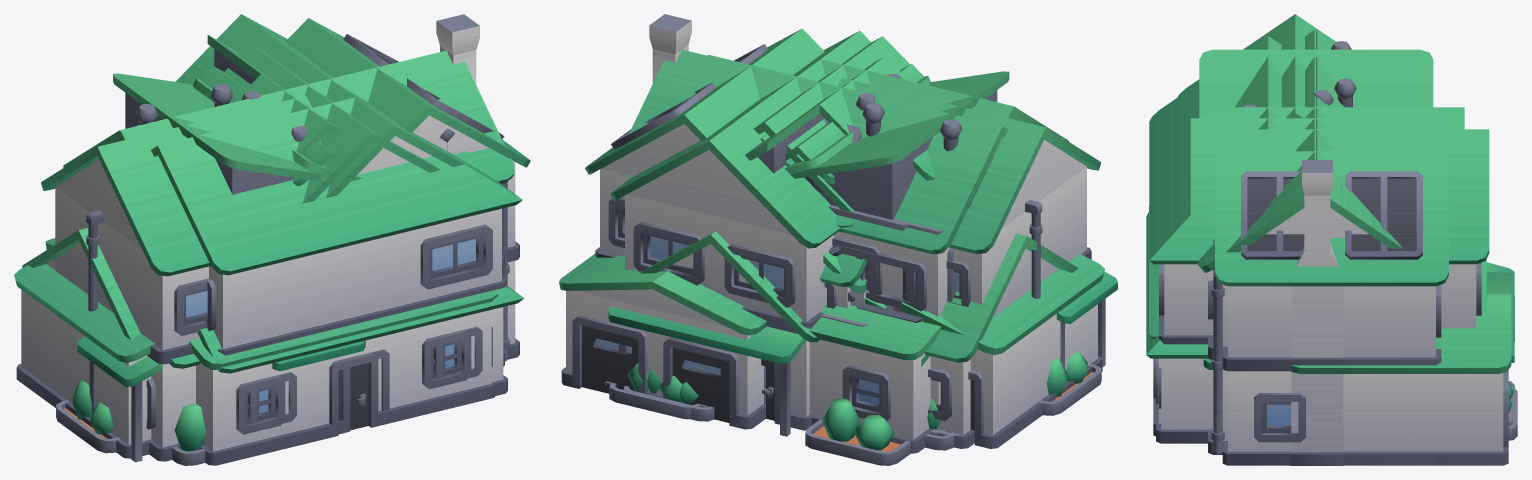
File: city-suburban.glb
3 views of the same model, side by side, from view 1: azimuth 30°, elevation 25°; view 2: azimuth 150°, elevation 25°; view 3: azimuth 270°, elevation 25° (orthographic). The views are drawn at different scales.
Parts seen in each view (by area): view 1: building-type-f, building-type-t, building-type-n, building-type-d, building-type-b, building-type-m, building-type-k, building-type-u, building-type-s, building-type-r, building-type-l; view 2: building-type-n, building-type-f, building-type-d, building-type-b, building-type-t, building-type-e, building-type-k, building-type-m, building-type-r, building-type-s, building-type-u, building-type-j (+3 smaller); view 3: building-type-b, building-type-f, building-type-n, building-type-d, building-type-k, building-type-u, building-type-m, building-type-t, building-type-r, building-type-s, building-type-e.
Part boxes in pixels (<box>): building-type-f: <box>137,14,522,465</box>; building-type-t: <box>45,57,498,465</box>; building-type-n: <box>41,96,365,462</box>; building-type-d: <box>14,14,514,458</box>; building-type-b: <box>22,18,530,453</box>; building-type-m: <box>197,285,524,434</box>; building-type-k: <box>113,73,335,194</box>; building-type-u: <box>263,38,487,197</box>; building-type-s: <box>224,44,440,203</box>; building-type-r: <box>207,35,339,153</box>; building-type-l: <box>193,78,362,181</box>; building-type-n: <box>559,77,1117,446</box>; building-type-f: <box>608,59,1068,436</box>; building-type-d: <box>621,14,1104,448</box>; building-type-b: <box>585,28,1101,448</box>; building-type-t: <box>623,54,1007,465</box>; building-type-e: <box>685,55,1007,366</box>; building-type-k: <box>791,71,1009,290</box>; building-type-m: <box>609,231,819,419</box>; building-type-r: <box>745,56,908,326</box>; building-type-s: <box>753,36,909,211</box>; building-type-u: <box>722,30,954,450</box>; building-type-j: <box>819,246,940,430</box>; building-type-b: <box>1211,151,1448,465</box>; building-type-f: <box>1149,36,1514,443</box>; building-type-n: <box>1178,14,1511,465</box>; building-type-d: <box>1198,47,1402,465</box>; building-type-k: <box>1199,49,1433,118</box>; building-type-u: <box>1190,129,1424,406</box>; building-type-m: <box>1146,212,1517,443</box>; building-type-t: <box>1149,30,1514,436</box>; building-type-r: <box>1230,90,1464,129</box>; building-type-s: <box>1190,104,1424,369</box>; building-type-e: <box>1316,30,1361,202</box>.
Bounding box in the file's own units: 1.83 × 1.24 × 1.43.
Materials: 1 (1 with a texture image).
